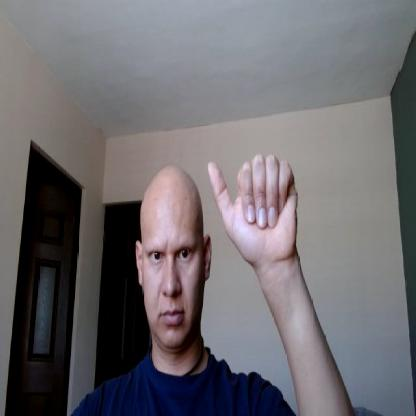A: (206, 154, 300, 259)
